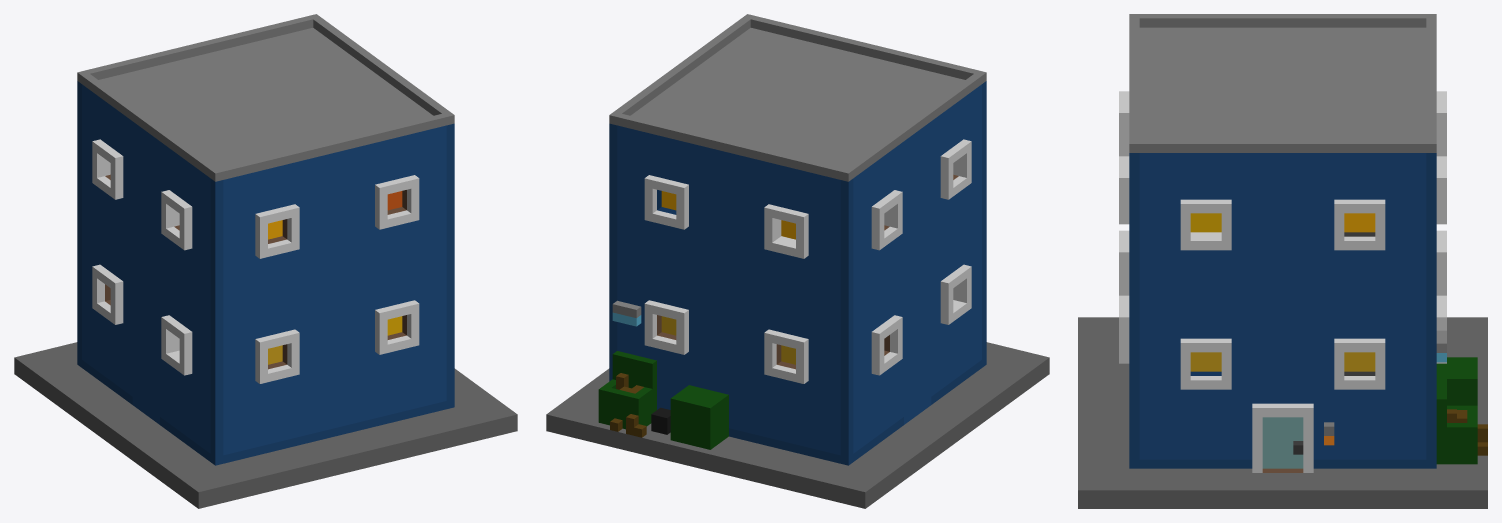
The model's file is town_model-3.obj.
3 renders of one model, left to right at view 1: azimuth 30°, elevation 25°; view 2: azimuth 150°, elevation 25°; view 3: azimuth 270°, elevation 25°, orthographic. The views are drawn at different scales.
Visible parts, largest first — view 1: town_model-3; view 2: town_model-3; view 3: town_model-3.
Boxes of the visible parts, left/top/right/bottom form: town_model-3: left=14, top=14, right=517, bottom=508; town_model-3: left=546, top=14, right=1049, bottom=508; town_model-3: left=1078, top=14, right=1487, bottom=508.
Size of the model in its own units: 40 by 37 by 40.
Materials: 1 (1 with a texture image).
